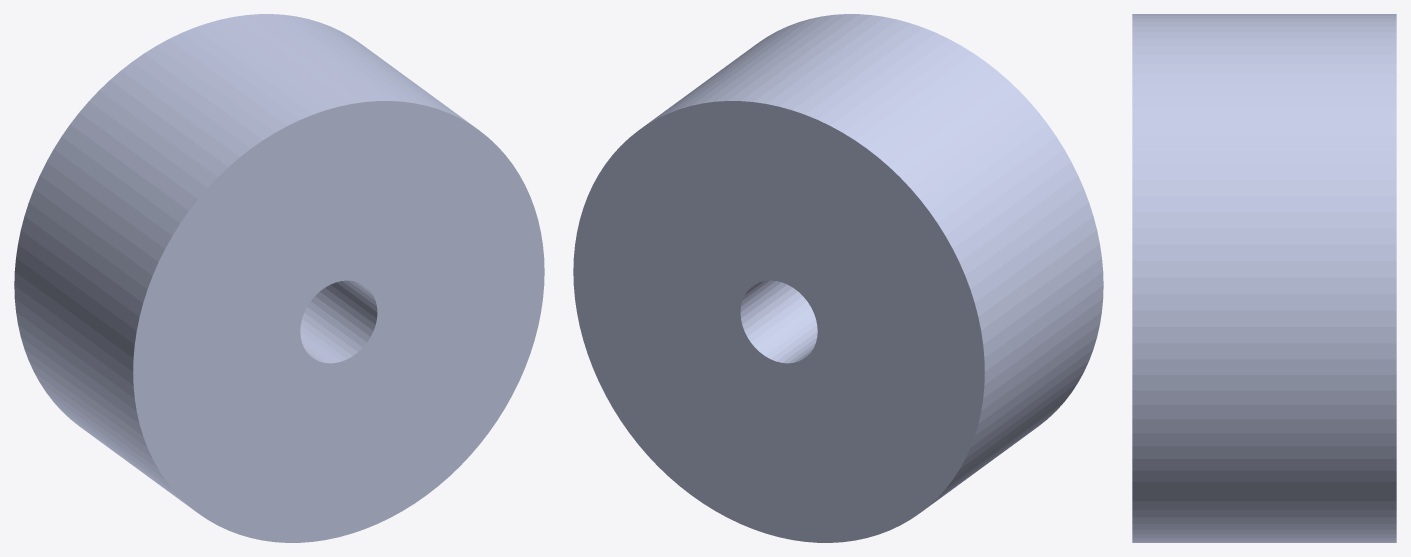
File: Rueda_FrenteV1.0.dae
The picture shows the model from 3 angles, left to right: view 1: azimuth 30°, elevation 25°; view 2: azimuth 150°, elevation 25°; view 3: azimuth 270°, elevation 25°; orthographic projection. The views are drawn at different scales.
Parts seen in each view (by area): view 1: ID2; view 2: ID2; view 3: ID2.
Part boxes in pixels (x1,y1,x2,y2): ID2: (14,14,544,542); ID2: (573,14,1103,542); ID2: (1132,14,1396,542).
Bounding box in the file's own units: 0.08 × 0.04 × 0.08.
